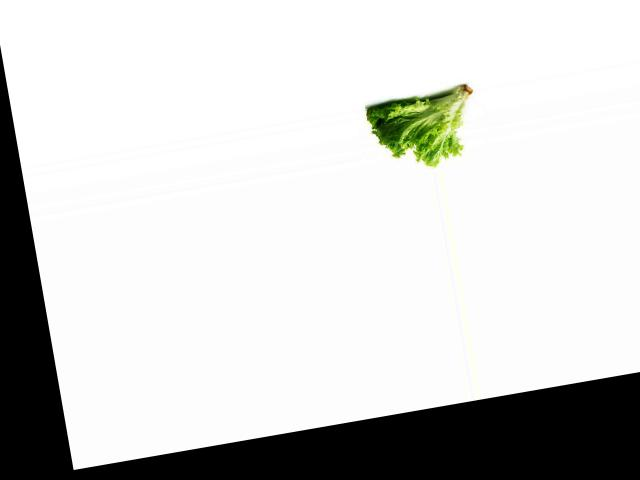lettuce: (364, 81, 486, 177)
